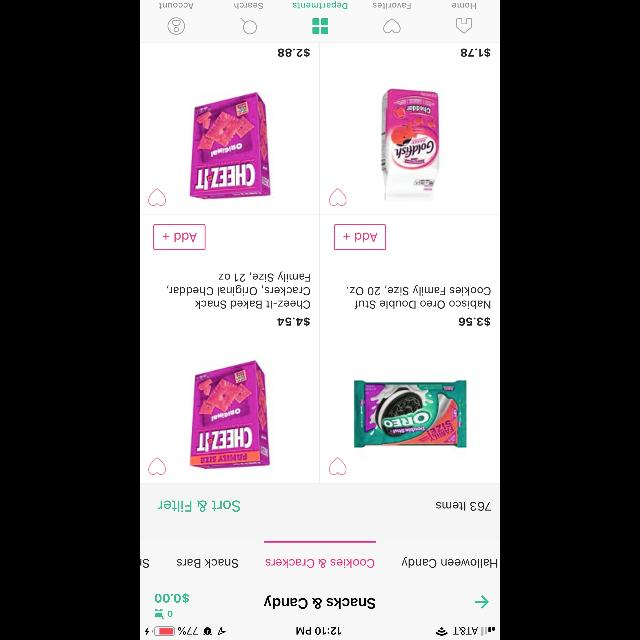icon: (328, 188, 346, 206), (148, 188, 166, 206), (329, 458, 347, 474), (148, 458, 166, 474), (240, 18, 258, 34), (384, 18, 401, 34), (168, 18, 185, 34), (456, 18, 472, 34), (312, 18, 328, 34), (475, 595, 489, 609), (154, 608, 164, 618)
image: (190, 359, 270, 469), (190, 92, 270, 200), (354, 380, 466, 448), (380, 88, 440, 202)
text: (168, 271, 310, 309), (347, 285, 491, 309), (264, 596, 378, 610), (401, 556, 497, 568), (266, 558, 374, 568), (157, 500, 240, 512), (177, 558, 239, 568), (436, 502, 494, 512), (292, 1, 348, 9), (155, 592, 189, 604), (458, 317, 490, 327), (278, 317, 310, 327), (278, 48, 310, 58), (373, 2, 411, 10), (460, 48, 490, 58), (234, 2, 264, 10), (158, 3, 194, 9), (452, 3, 476, 9), (140, 558, 150, 568), (168, 611, 172, 617)
textbutton: (334, 224, 386, 250), (153, 224, 205, 250)
uppertaskbar: (140, 626, 500, 640)
